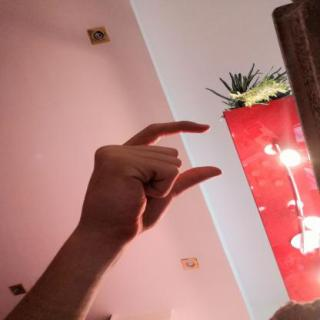DELL: (67, 112, 232, 246)
